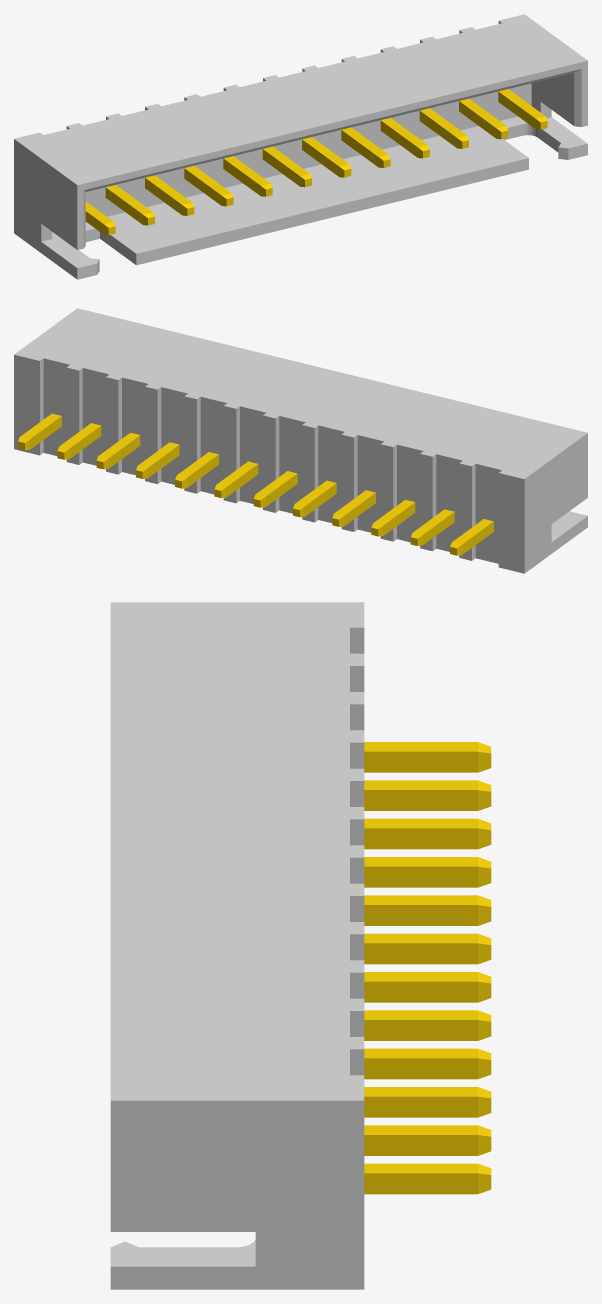
File: DS1069-12 CWF-12.obj
3 views of the same model, one above another, from view 1: azimuth 30°, elevation 25°; view 2: azimuth 150°, elevation 25°; view 3: azimuth 270°, elevation 25° (orthographic). The views are drawn at different scales.
Visible parts, largest first — view 1: DS1069-12_CWF-12; view 2: DS1069-12_CWF-12; view 3: DS1069-12_CWF-12.
Boxes of the visible parts, <box> form: DS1069-12_CWF-12: <box>14,14,587,279</box>; DS1069-12_CWF-12: <box>14,308,587,573</box>; DS1069-12_CWF-12: <box>110,602,491,1289</box>.
Size of the model in its own units: 0.0134 by 0.00237 by 0.00432.
